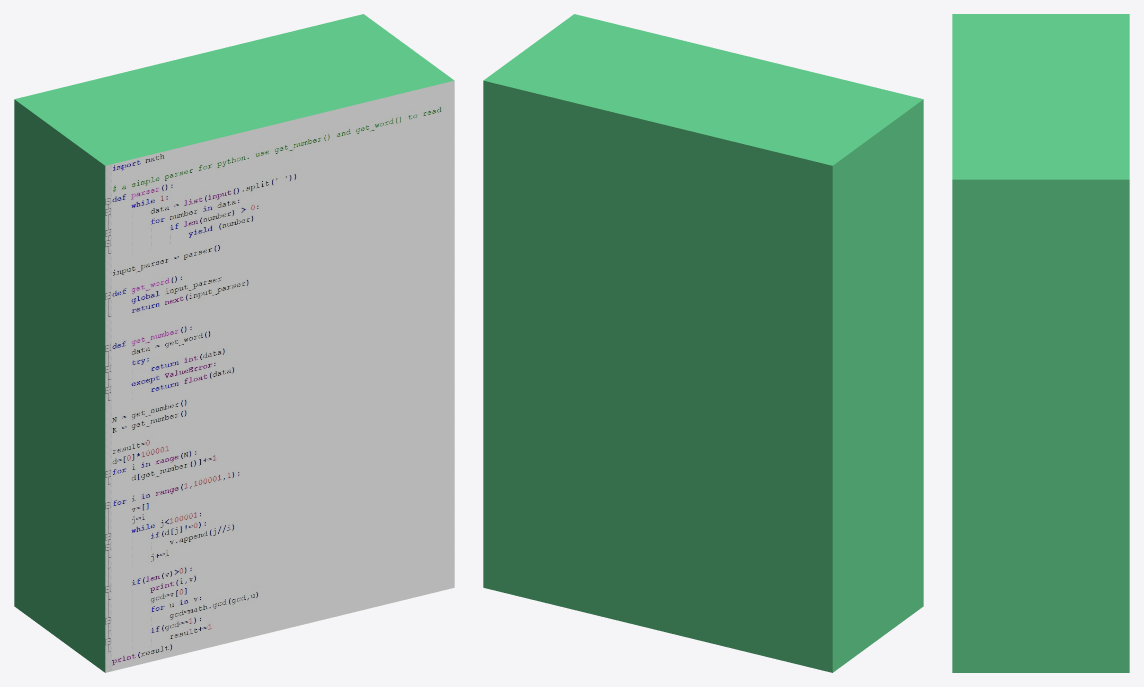
Rendered from code.glb.
3 views of the same model, side by side, from view 1: azimuth 30°, elevation 25°; view 2: azimuth 150°, elevation 25°; view 3: azimuth 270°, elevation 25° (orthographic). The views are drawn at different scales.
Visible parts, largest first — view 1: Object.1; view 2: Object.1; view 3: Object.1.
Boxes of the visible parts, x1,y1,x2,y2 form: Object.1: (14, 14, 454, 672); Object.1: (483, 14, 923, 672); Object.1: (952, 14, 1129, 672).
Size of the model in its own units: 28.84 by 40 by 13.01.
2 materials, 1 textured.
